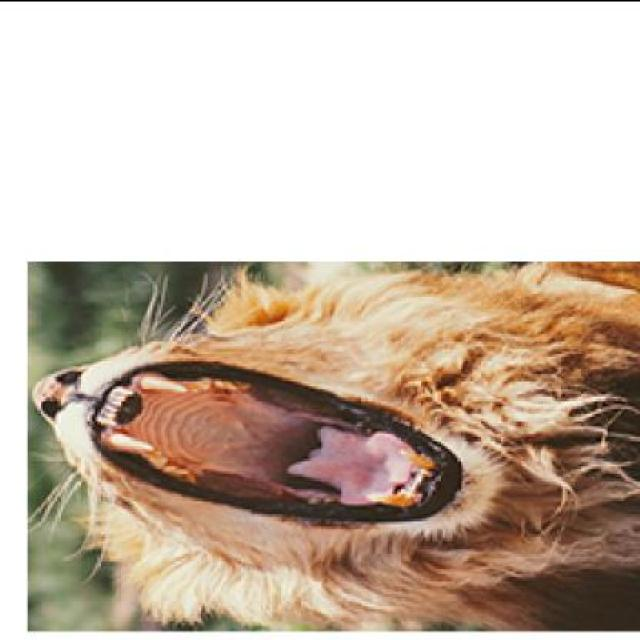Lion: (26, 240, 639, 632)
